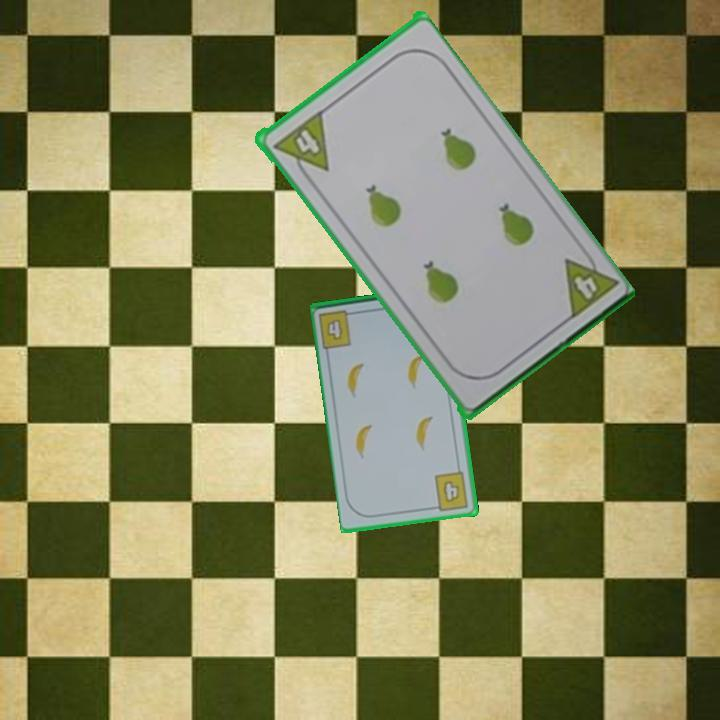4b: (315, 306, 360, 351), (429, 468, 471, 513)
4p: (559, 242, 620, 323), (268, 108, 332, 185)
